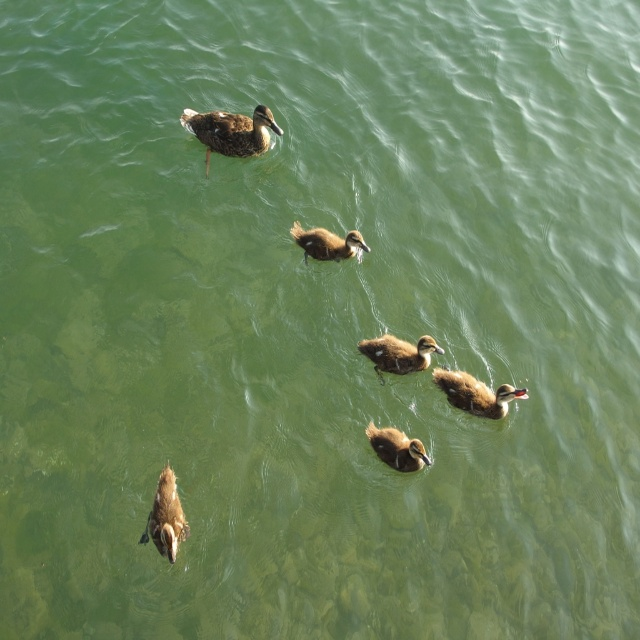Duck: (417, 349, 526, 427), (184, 108, 288, 183), (140, 458, 193, 575), (360, 329, 447, 389), (285, 221, 374, 276), (359, 421, 434, 475)
